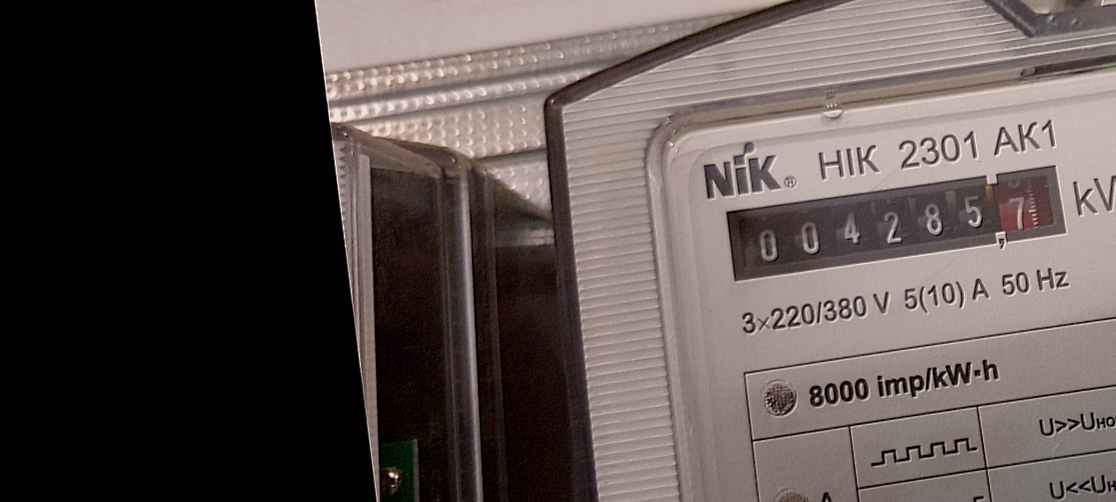0: (798, 218, 824, 257), (756, 225, 782, 263)
2: (881, 208, 905, 246)
4: (841, 209, 863, 246)
5: (961, 191, 986, 230)
7: (1007, 194, 1030, 232)
8: (921, 200, 947, 239)
screen: (710, 152, 1084, 296)
